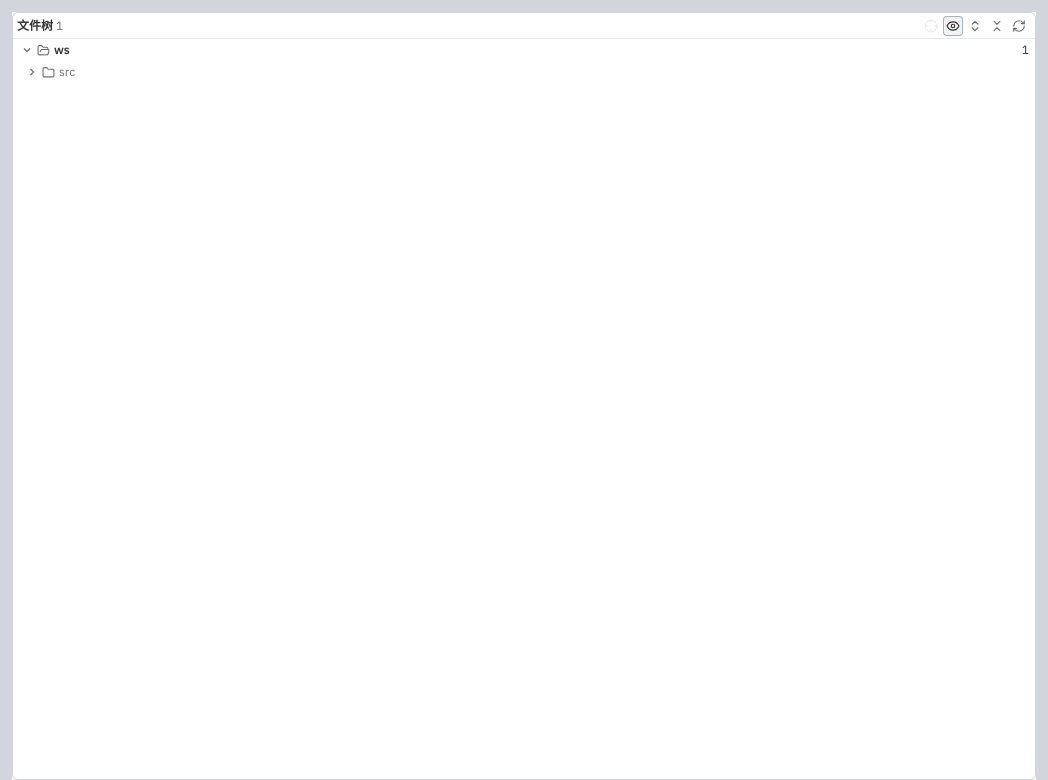
Scenario: FileTree › 点击 chevron 只切换展开不选行
// 先点 chevron（展开并触发懒加载）
Click the button named "展开". click: (32, 72)
box: left=26, top=66, right=38, bottom=78
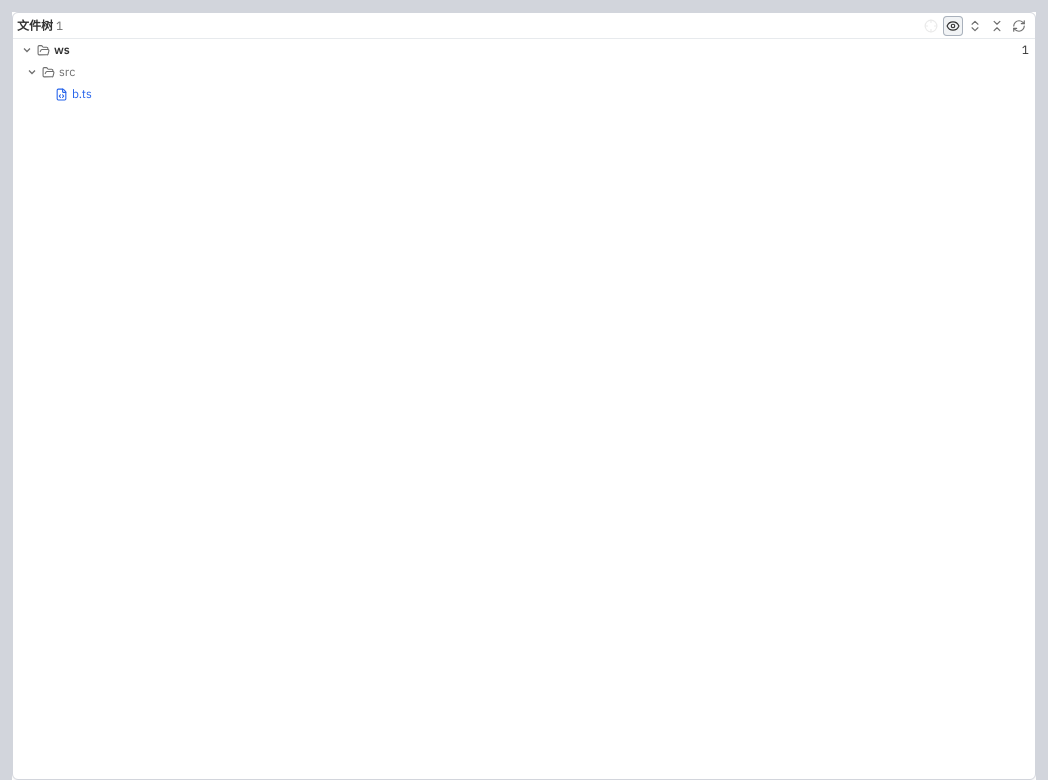
Expected: the list item "b.ts" is shown, left=13, top=83, right=1035, bottom=105
